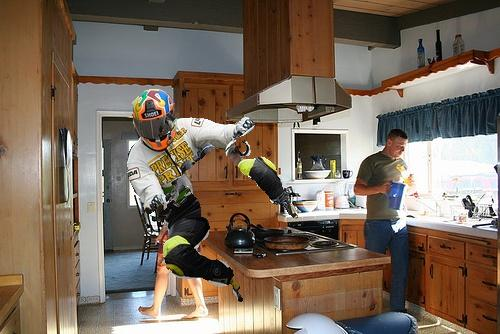tampered: (128, 90, 298, 302)
